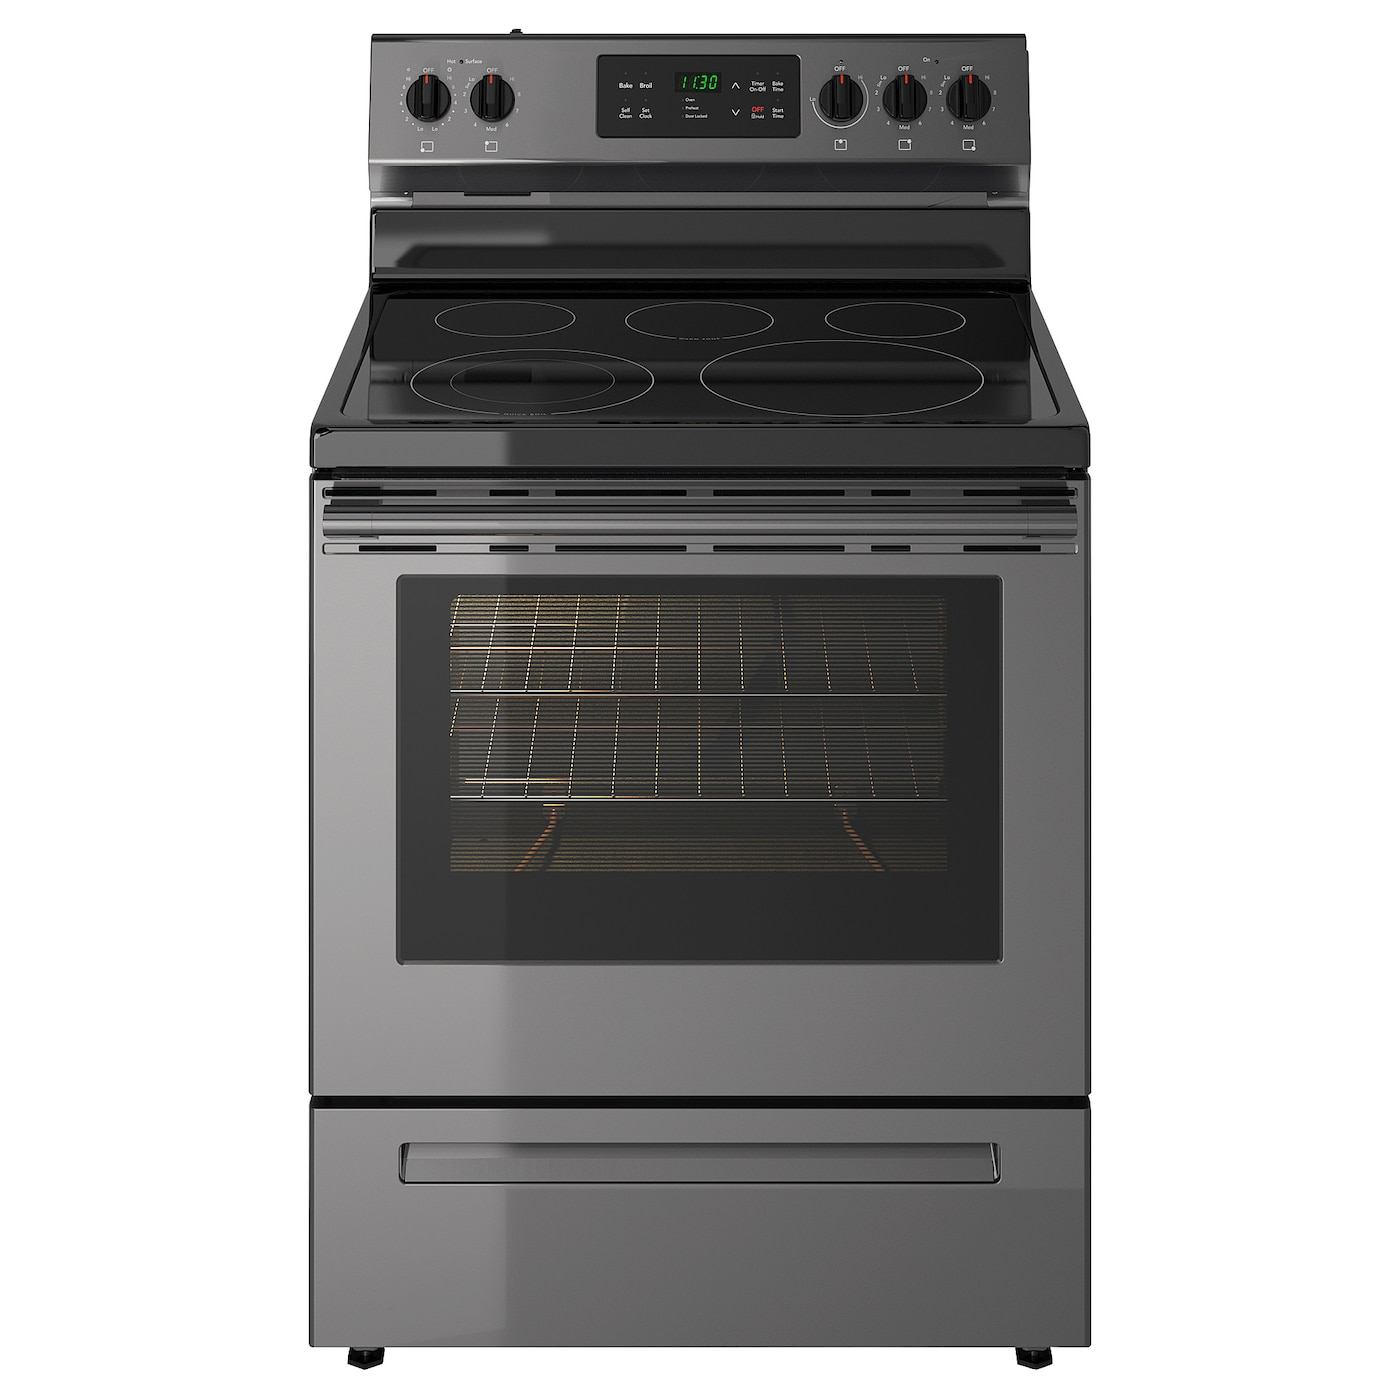stove: (238, 4, 1154, 1382)
